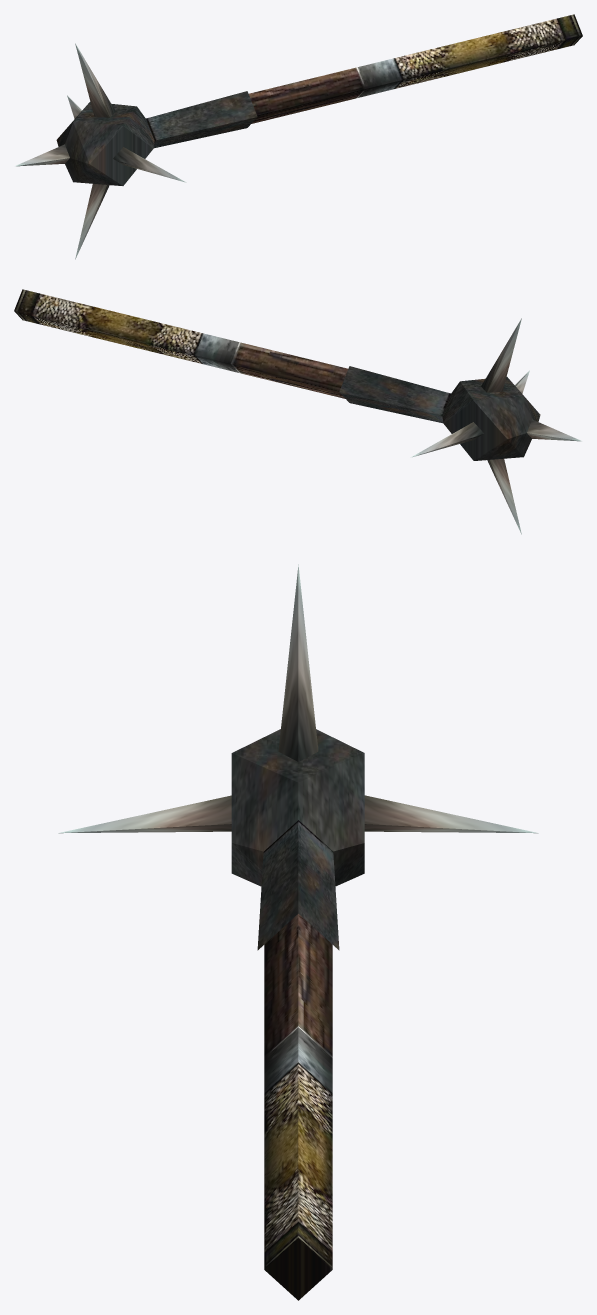
File: ITMW_035_1H_MACE_03.glb
The picture shows the model from 3 angles, top to bottom: view 1: azimuth 30°, elevation 25°; view 2: azimuth 150°, elevation 25°; view 3: azimuth 270°, elevation 25°; orthographic projection. The views are drawn at different scales.
Visible parts, largest first — view 1: ITMW_035_1H_MACE_03; view 2: ITMW_035_1H_MACE_03; view 3: ITMW_035_1H_MACE_03.
Part boxes in pixels (x1,y1,x2,y2): ITMW_035_1H_MACE_03: (15, 14, 582, 259); ITMW_035_1H_MACE_03: (14, 289, 581, 534); ITMW_035_1H_MACE_03: (58, 564, 538, 1300).
Size of the model in its own units: 0.874 by 0.3251 by 0.3251.
2 materials, 2 textured.
